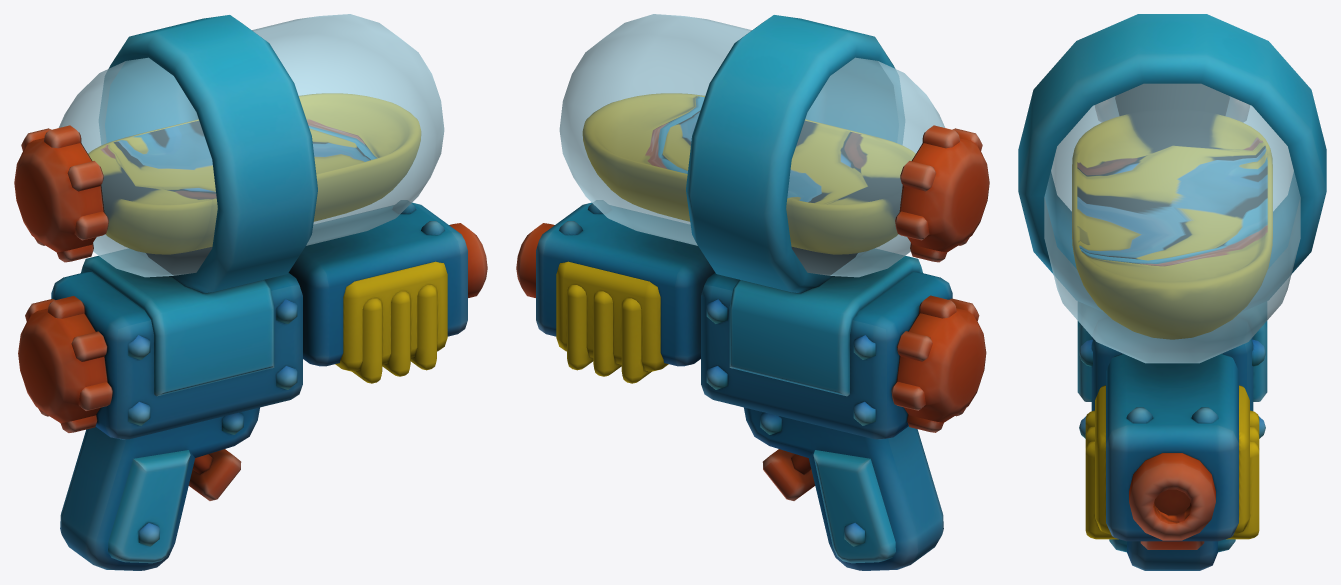
File: watergun.glb
3 renders of one model, left to right at view 1: azimuth 30°, elevation 25°; view 2: azimuth 150°, elevation 25°; view 3: azimuth 270°, elevation 25°, orthographic. The views are drawn at different scales.
Visible parts, largest first — view 1: UnityWaterGun; view 2: UnityWaterGun; view 3: UnityWaterGun.
Part boxes in pixels (bbox=[...]): UnityWaterGun: bbox=[14, 14, 487, 570]; UnityWaterGun: bbox=[516, 14, 989, 570]; UnityWaterGun: bbox=[1018, 14, 1326, 570].
Size of the model in its own units: 0.735 by 0.8104 by 0.3949.
2 materials, 1 textured.
